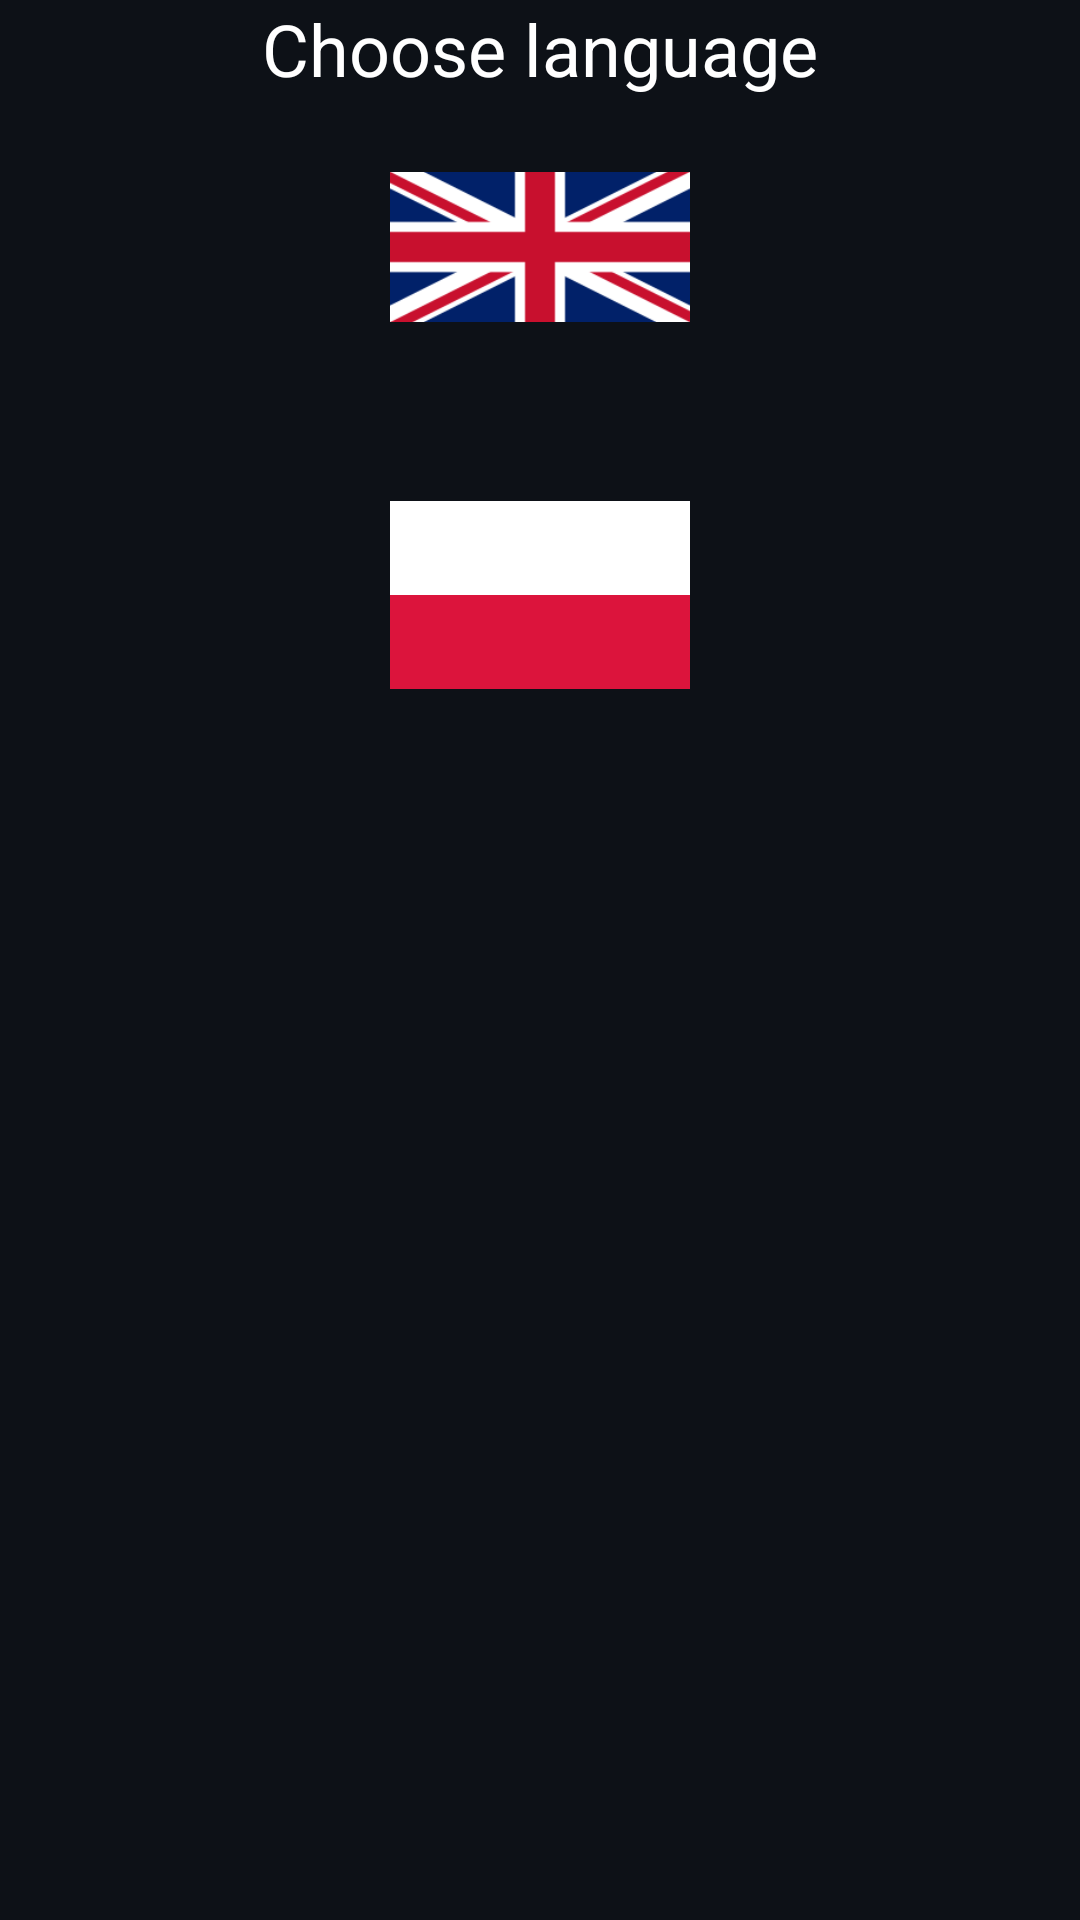

Icons on this 1080 x 1920 Android screen, each with its box as box=[x1, y1, x2, y2]:
flag en: box=[390, 172, 690, 322]
flag pl: box=[390, 501, 690, 689]
